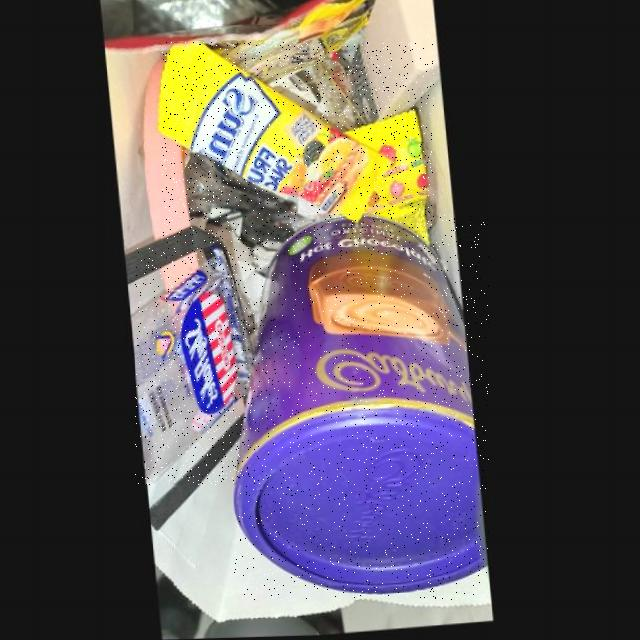plastic: (234, 215, 489, 599)
wrapper: (161, 42, 434, 246), (136, 248, 256, 485)
